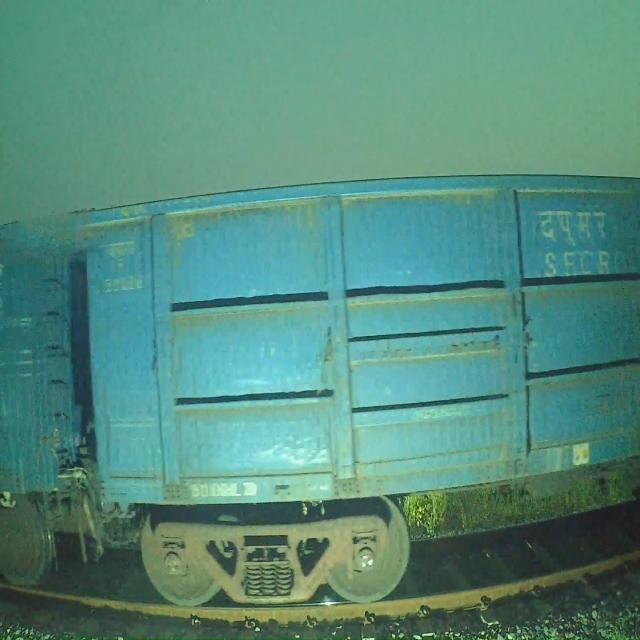WAgon-uic: (71, 171, 640, 608), (0, 216, 131, 582)
